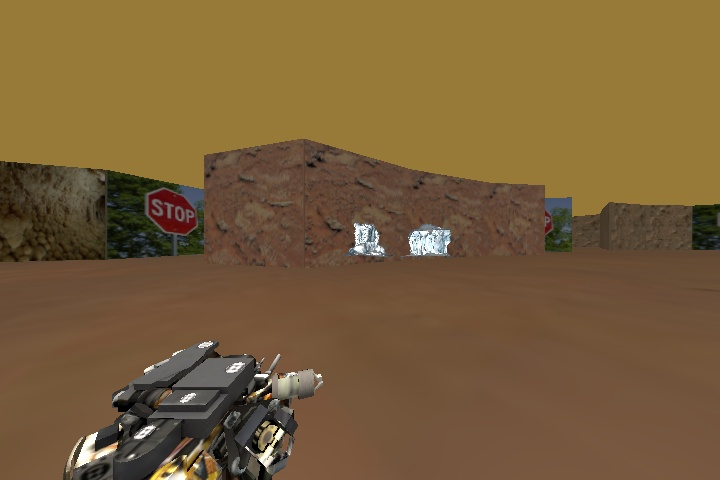minerals: (408, 224, 449, 259), (348, 224, 386, 259)
sign: (146, 188, 198, 232)
